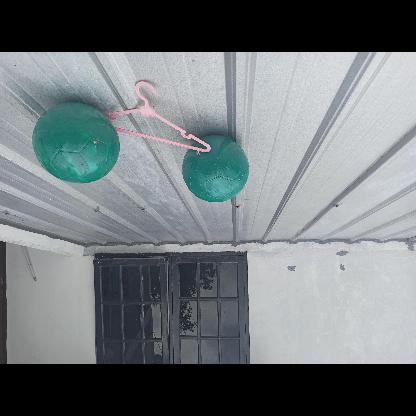green_ball: (34, 100, 121, 188), (183, 136, 250, 202)
